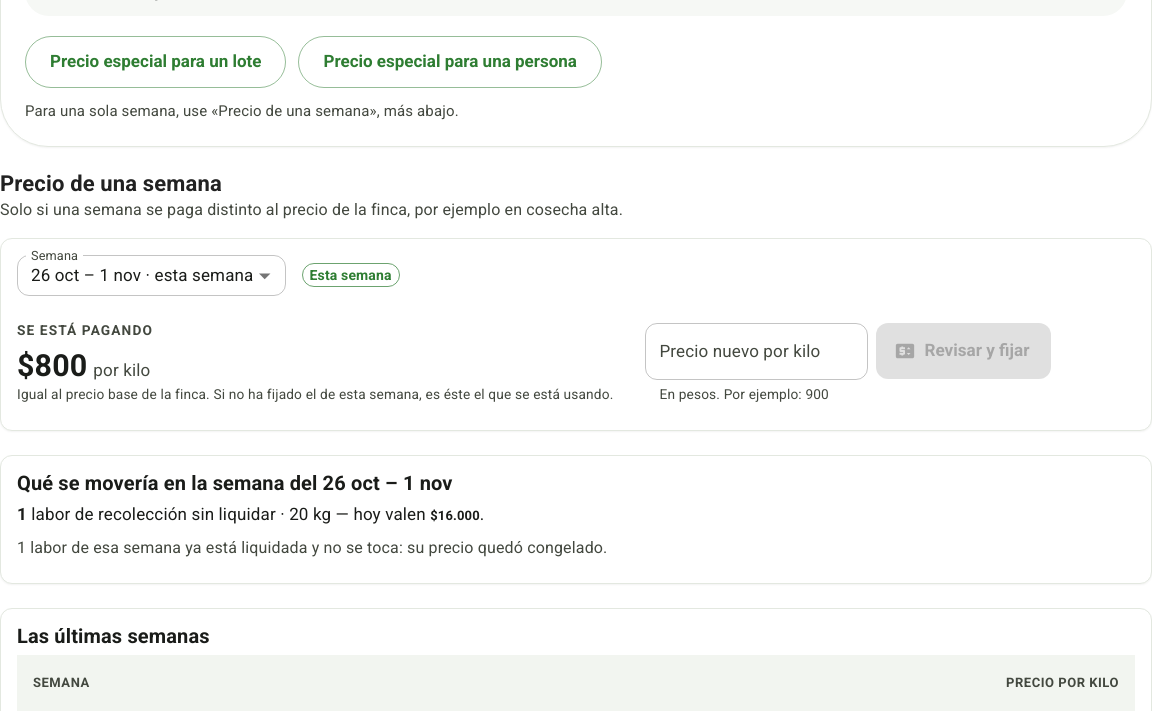
it: WeekPricePage edges › spells one movable labor and one frozen labor in the singular
The width and height of the screenshot is (1152, 711).
(page scrolled)
Check: the text "1 labor de esa semana ya está liquidada y no se toca" is shown, box top-left (17, 538), bottom-right (608, 557)
Check: the element that starts with "labor de recolección" is shown, box top-left (17, 504), bottom-right (484, 524)
Type "900" into the field labelled "Precio nuevo por kilo" at (757, 351), box top-left (645, 323), bottom-right (868, 380)
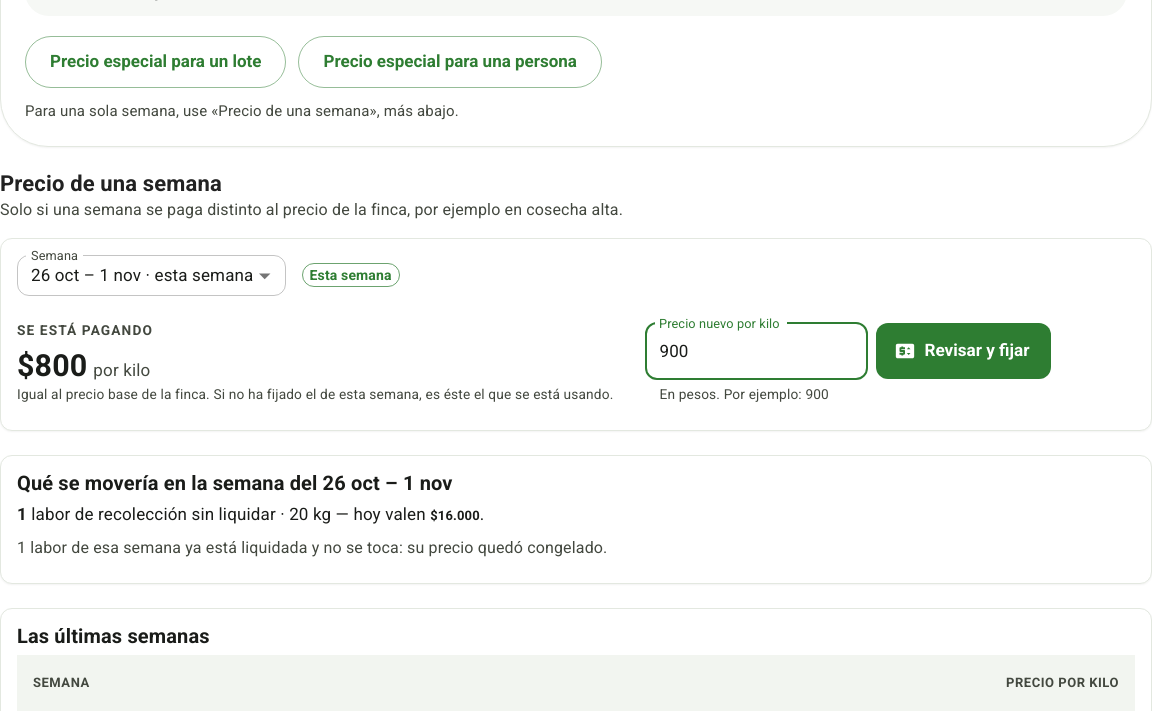
Click the button "Revisar y fijar" at (964, 351), box top-left (876, 323), bottom-right (1051, 379)
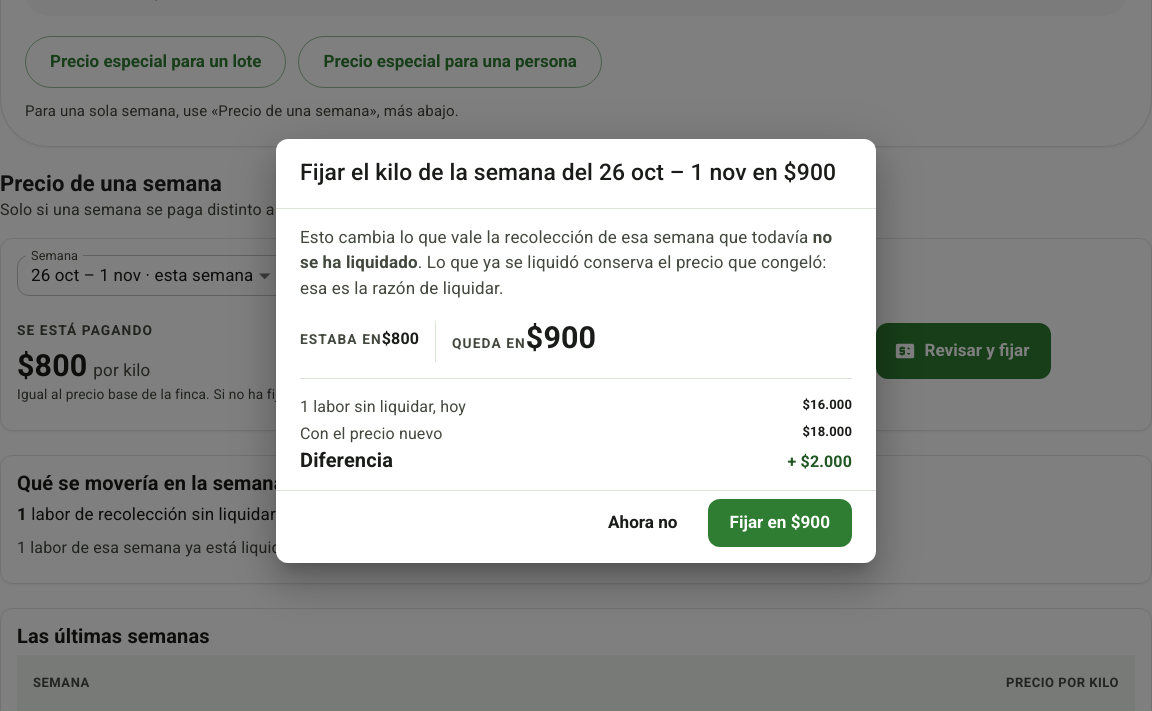
Check: the text "1 labor sin liquidar, hoy" is shown, box top-left (300, 395), bottom-right (466, 418)
